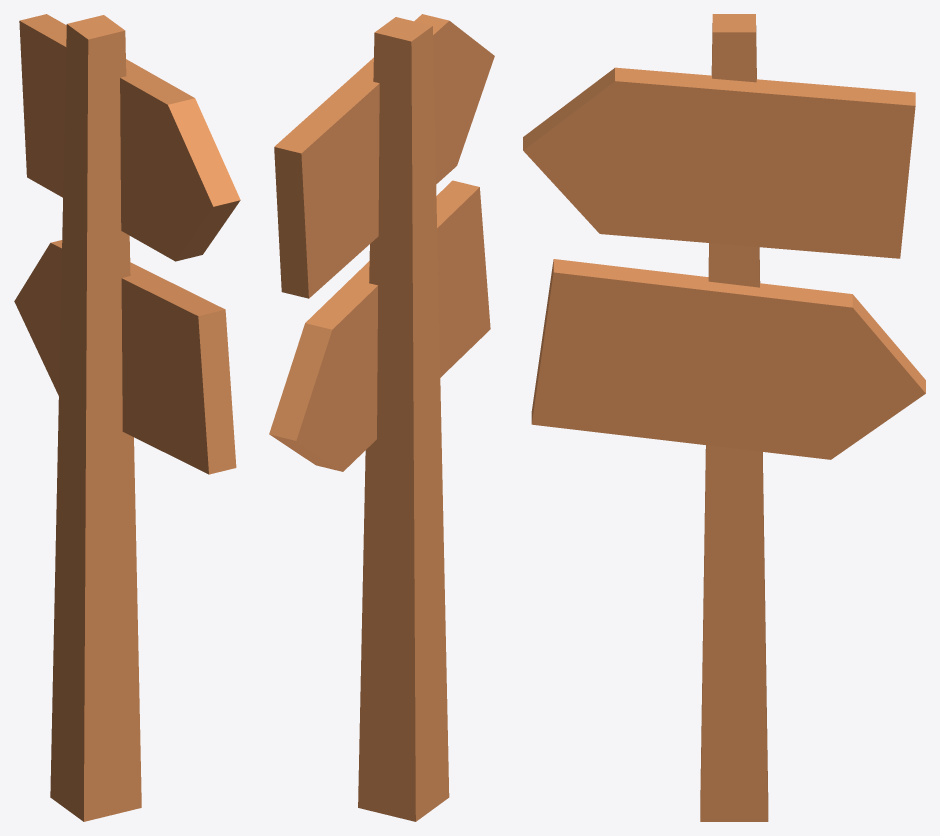
Rendered from signpost.dae.
3 views of the same model, side by side, from view 1: azimuth 30°, elevation 25°; view 2: azimuth 150°, elevation 25°; view 3: azimuth 270°, elevation 25° (orthographic).
Parts seen in each view (by area): view 1: signpost; view 2: signpost; view 3: signpost.
Boxes of the visible parts, x1,y1,x2,y2 form: signpost: [14, 14, 240, 821]; signpost: [269, 14, 494, 821]; signpost: [523, 14, 925, 821].
Size of the model in its own units: 0.1719 by 1.84 by 0.8565.
